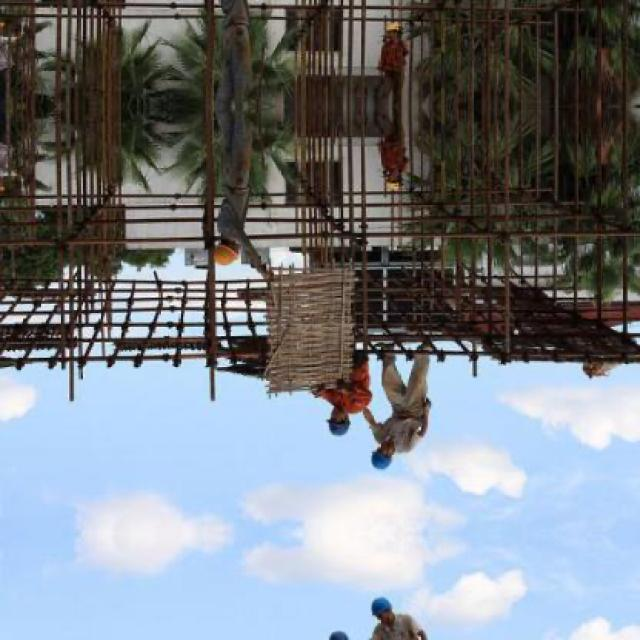con casco: (168, 205, 232, 287), (278, 388, 377, 441), (358, 427, 413, 485)
